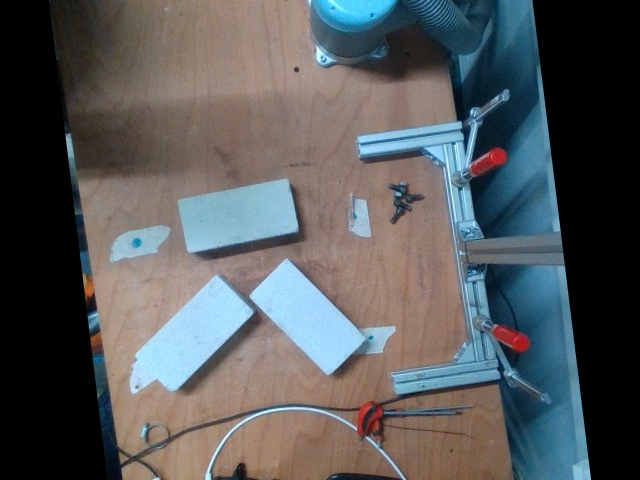brick: (133, 273, 254, 396), (248, 259, 366, 376), (177, 181, 295, 252)
